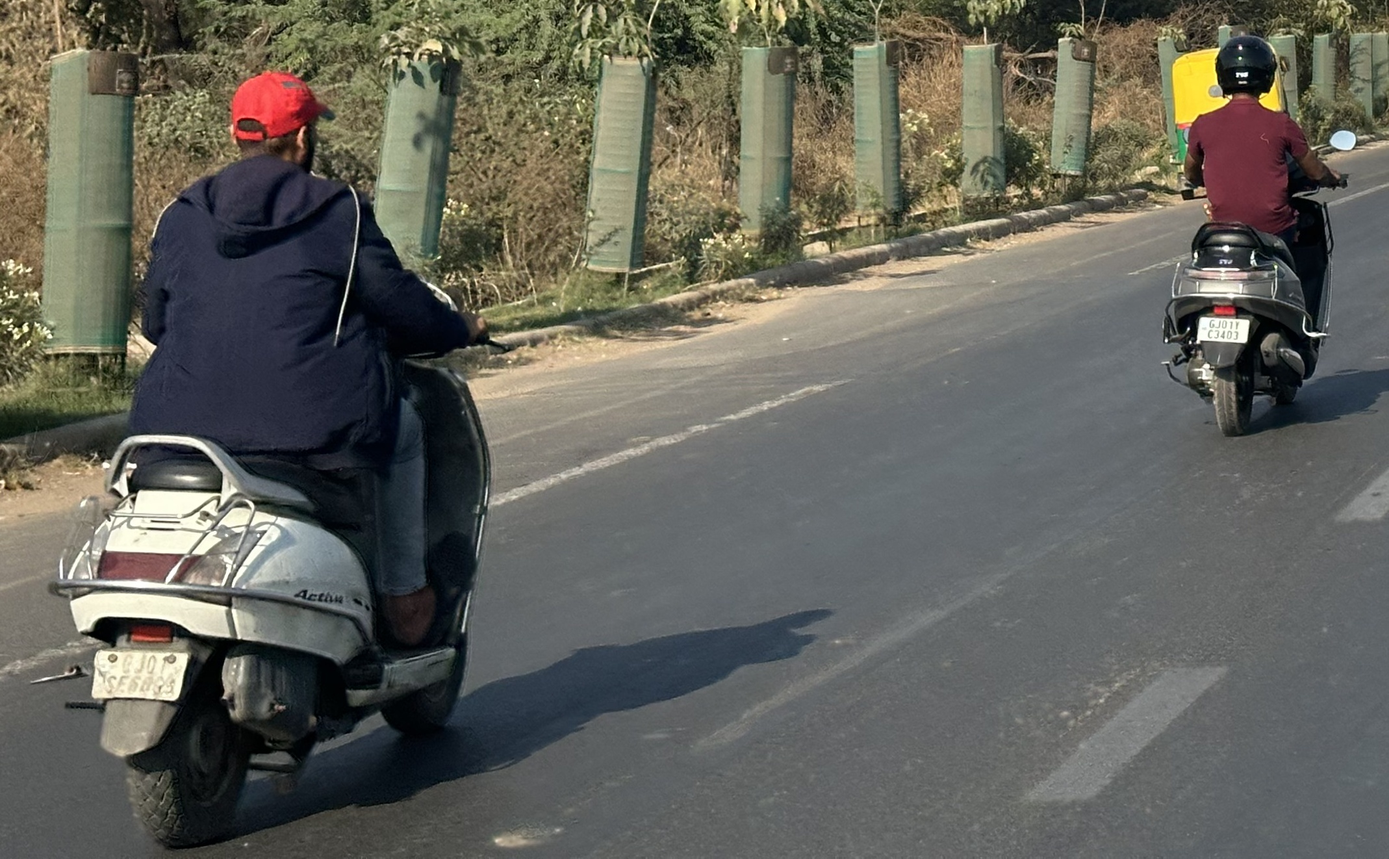BikeWithRider: (34, 58, 526, 853), (1143, 26, 1366, 445)
Helmet: (1204, 27, 1288, 104)
NoHelmet: (214, 62, 344, 179)
